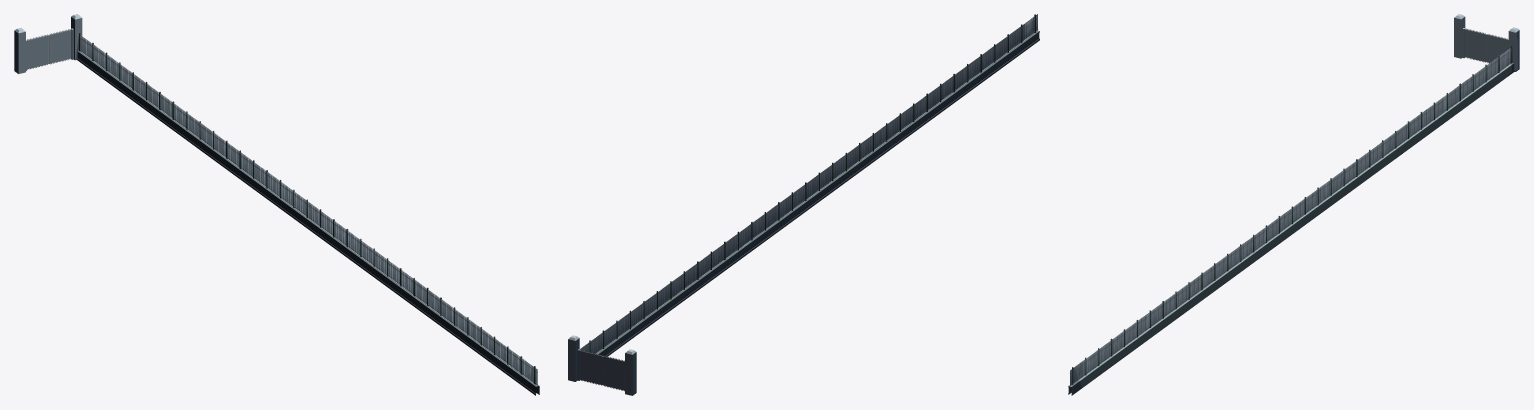
3 renders of one model, left to right at view 1: azimuth 30°, elevation 25°; view 2: azimuth 150°, elevation 25°; view 3: azimuth 330°, elevation 25°, orthographic. The views are drawn at different scales.
Parts seen in each view (by area): view 1: 20-三号区围栏3, 20-大门; view 2: 20-三号区围栏3, 20-大门; view 3: 20-三号区围栏3, 20-大门.
Part boxes in pixels (x1,y1,x2,y2): 20-三号区围栏3: [77, 33, 539, 395]; 20-大门: [14, 14, 82, 73]; 20-三号区围栏3: [580, 14, 1039, 356]; 20-大门: [568, 335, 636, 395]; 20-三号区围栏3: [1068, 45, 1514, 395]; 20-大门: [1454, 14, 1519, 71].
Bounding box in the file's own units: 3.78 × 2.43 × 47.38.
Materials: 2 (2 with a texture image).
